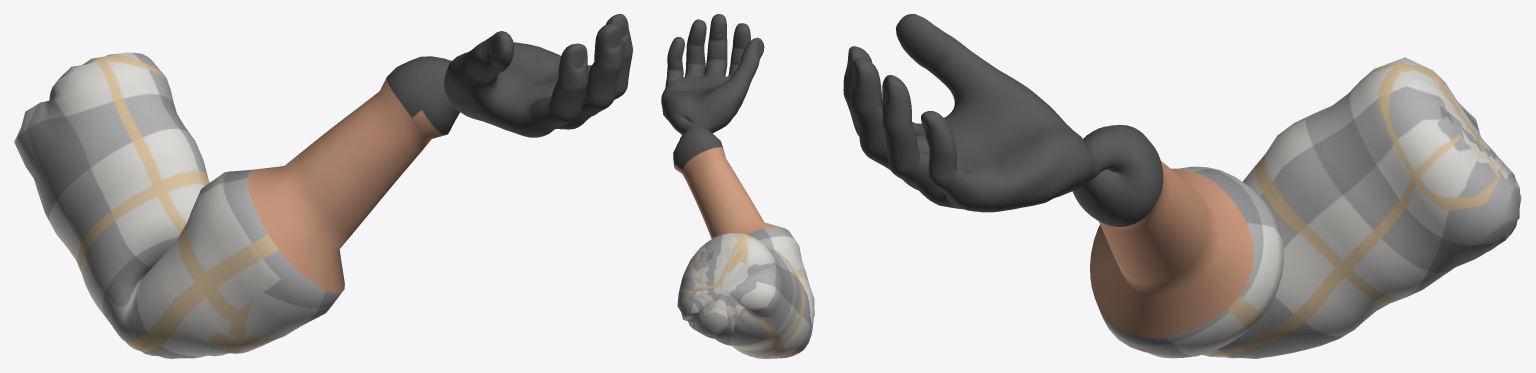
File: akinci_c4.fbx
The picture shows the model from 3 angles, left to right: view 1: azimuth 30°, elevation 25°; view 2: azimuth 150°, elevation 25°; view 3: azimuth 270°, elevation 25°; orthographic projection. The views are drawn at different scales.
Parts seen in each view (by area): view 1: RightArm; view 2: RightArm; view 3: RightArm.
Boxes of the visible parts, x1,y1,x2,y2 form: RightArm: (14, 14, 632, 358); RightArm: (661, 14, 814, 358); RightArm: (843, 14, 1521, 358).
Size of the model in its own units: 0.3193 by 0.2985 by 0.4124.
